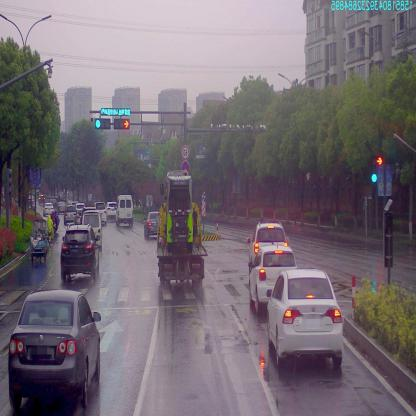traffic-light: (101, 106, 131, 115), (94, 119, 111, 131), (113, 119, 130, 129)
